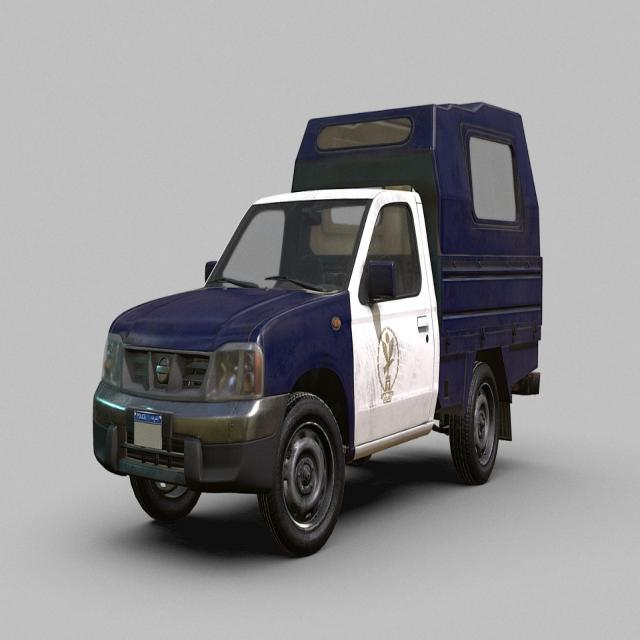police-car: (92, 100, 544, 558)
